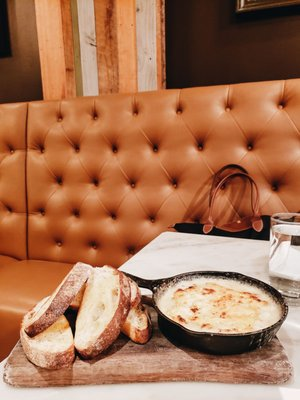pizza: (268, 213, 300, 282)
sushi: (152, 270, 288, 356)
